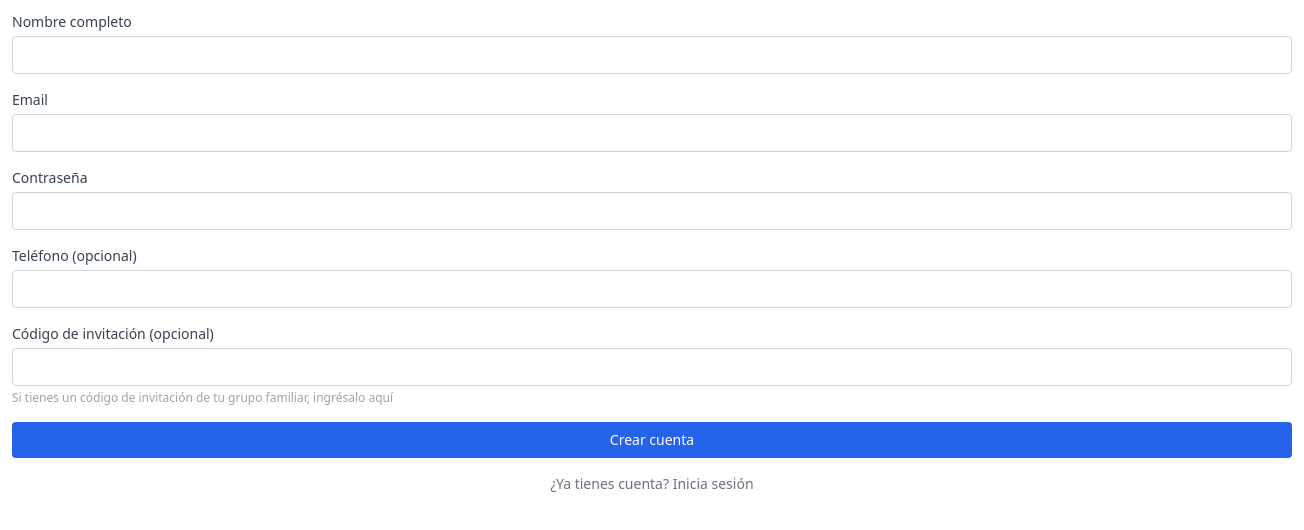
Test case: RegisterPage › shows error for invalid email format
In the field labelled "Nombre completo": [652, 55] box [12, 36, 1292, 74], type "Test User"
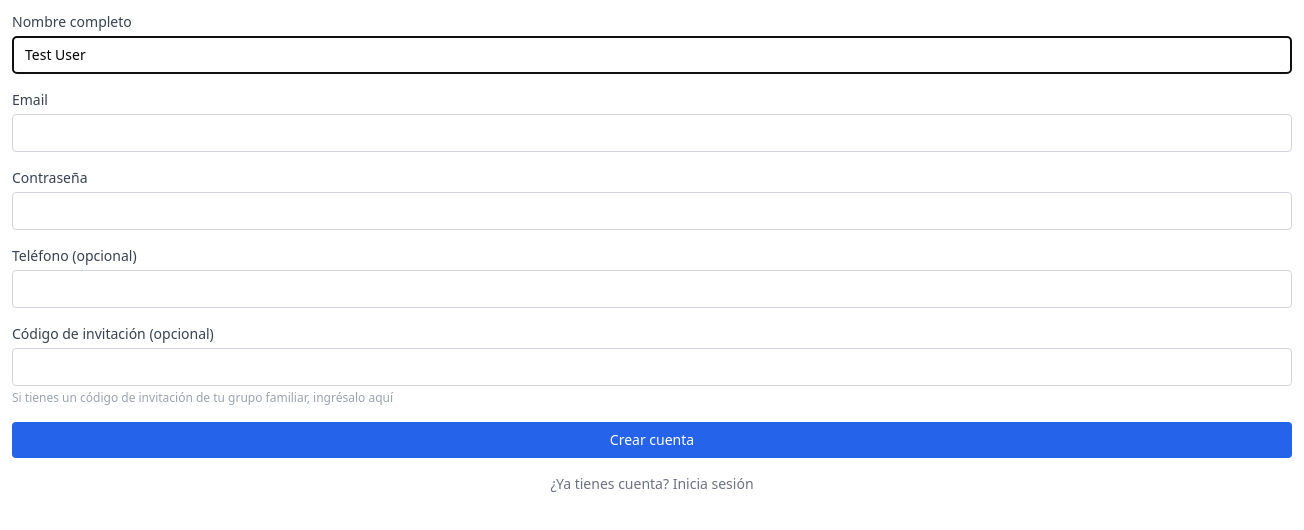
In the field labelled "Email": [652, 133] box [12, 114, 1292, 152], type "not-an-email"
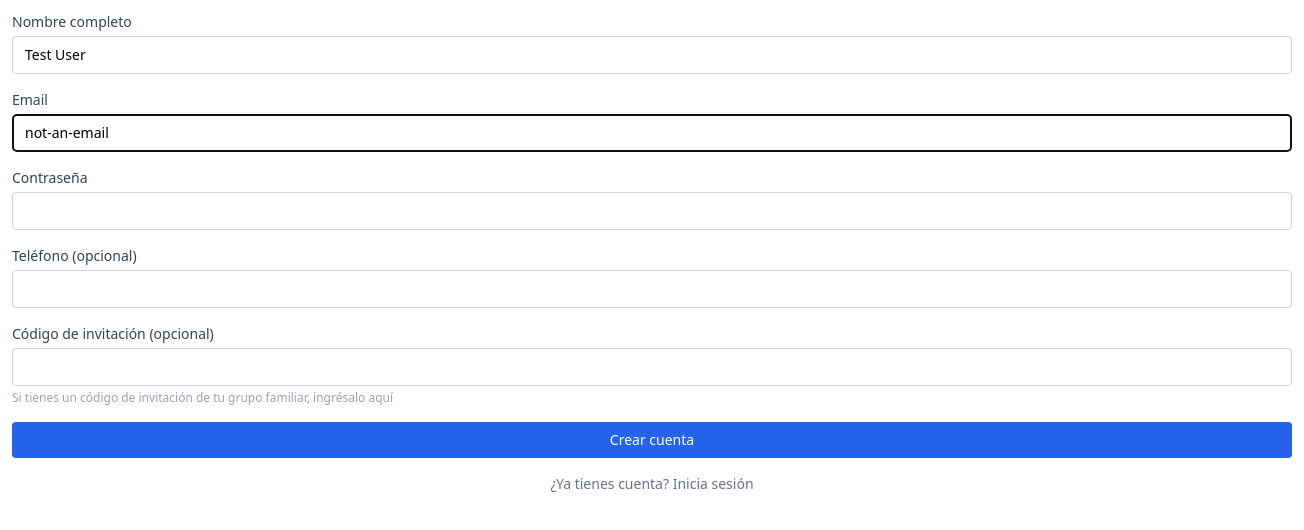
In the password field labelled "Contraseña": [652, 211] box [12, 192, 1292, 230], type "password123"
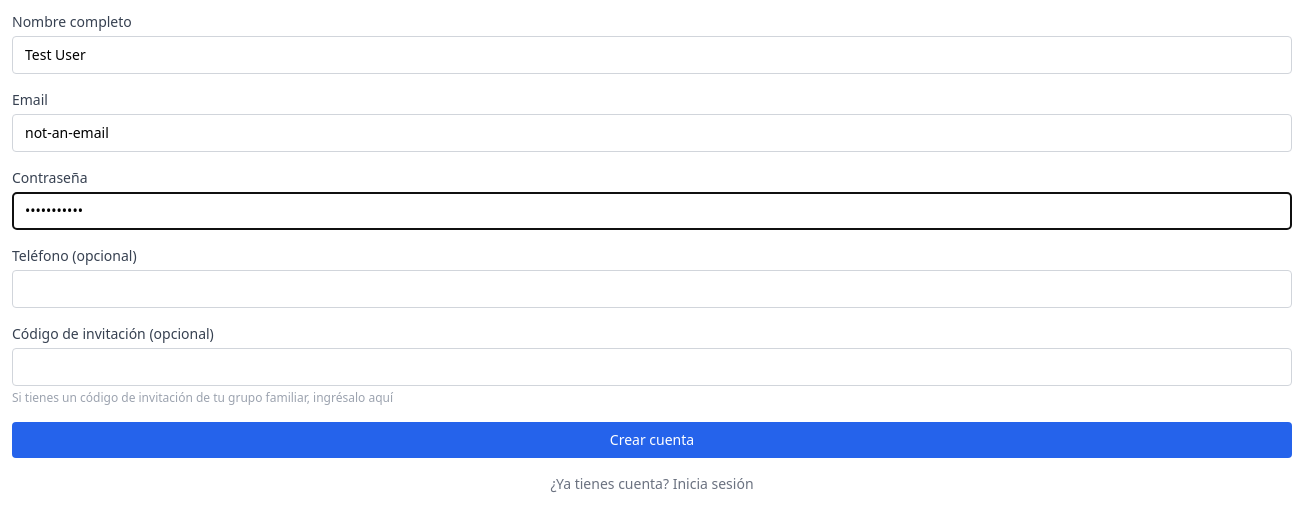
Click the button "Crear cuenta": [652, 440] box [12, 422, 1292, 458]
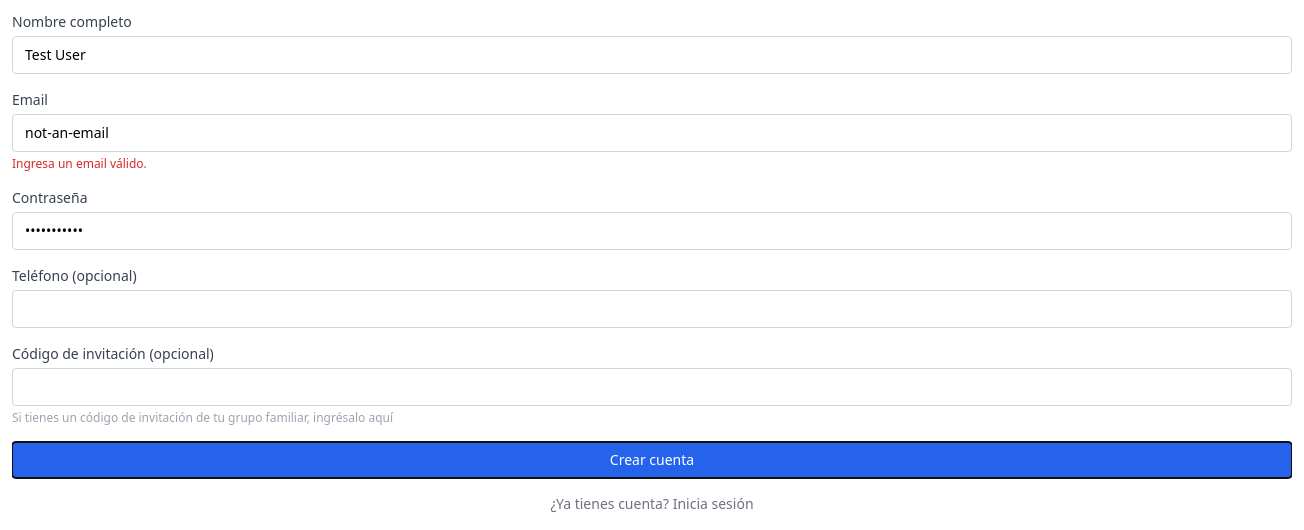
Now the text "Ingresa un email válido." is shown, box [12, 155, 147, 172]
